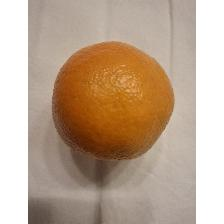Mandarine: (49, 38, 177, 164)
